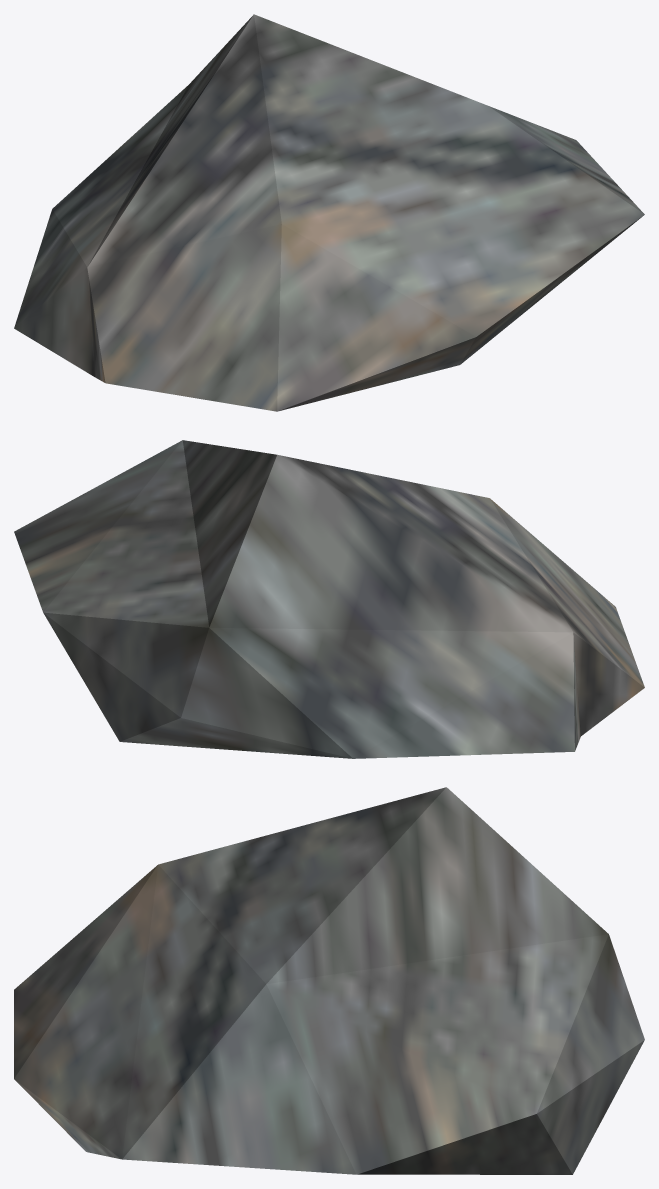
The model's file is C1SNROKB.obj.
3 renders of one model, top to bottom at view 1: azimuth 30°, elevation 25°; view 2: azimuth 150°, elevation 25°; view 3: azimuth 270°, elevation 25°, orthographic. The views are drawn at different scales.
Visible parts, largest first — view 1: Node 0; view 2: Node 0; view 3: Node 0.
Part boxes in pixels (x1,y1,x2,y2): Node 0: [14, 14, 644, 411]; Node 0: [14, 440, 644, 758]; Node 0: [14, 787, 644, 1174].
Bounding box in the file's own units: 0.44 × 0.2 × 0.35.
